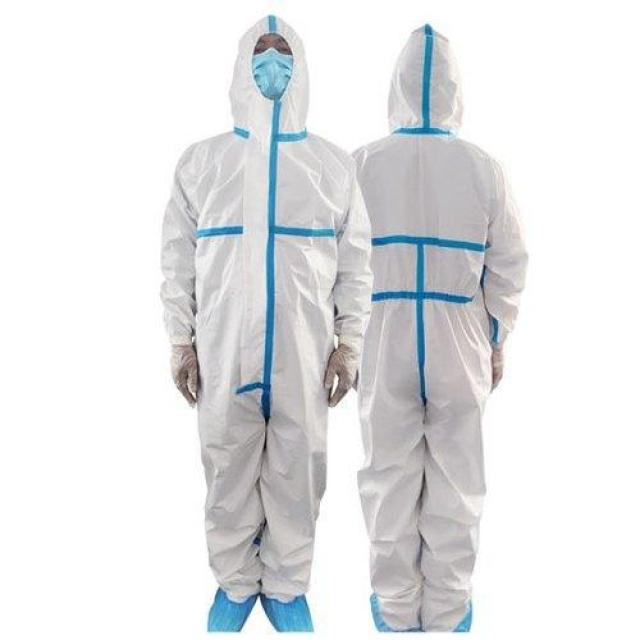Coverall: (156, 10, 374, 635), (351, 23, 533, 636)
Gloves: (166, 343, 205, 407), (320, 343, 356, 408)
Mask: (244, 48, 295, 98)
